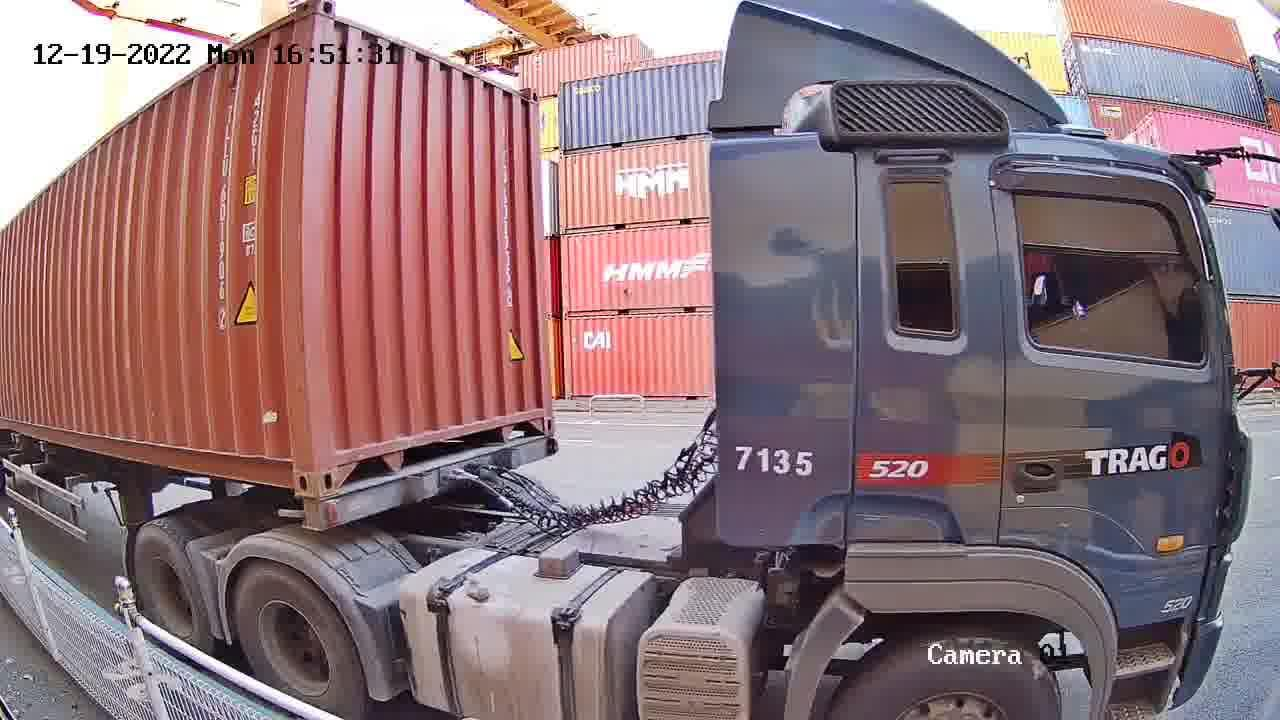Chassis: (296, 434, 556, 530)
Cone: (298, 498, 320, 532)
Hole_L: (310, 427, 365, 496)
Hole_R: (261, 434, 314, 493), (518, 386, 556, 438)
Tire: (235, 567, 358, 714), (134, 528, 207, 648)
